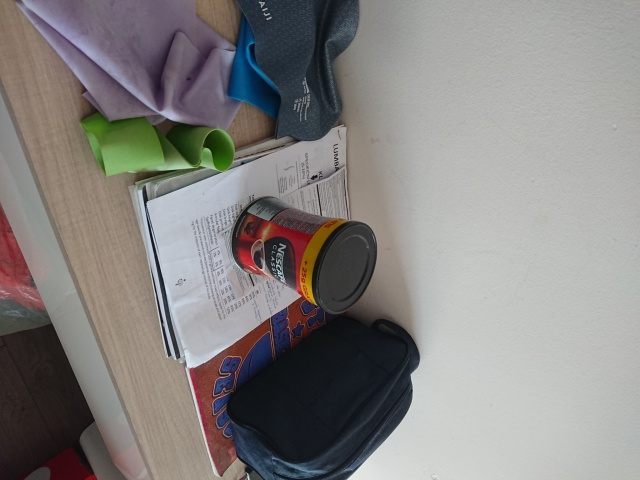Nescafe Classic 225g: (226, 193, 381, 318)
